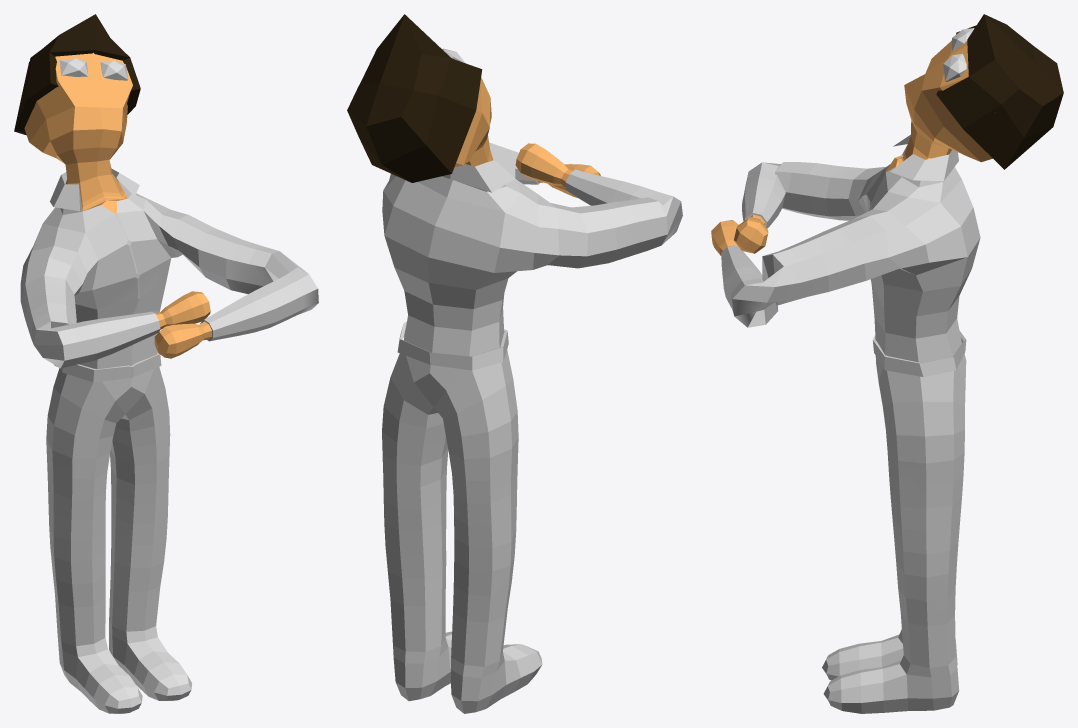
Rendered from tired worker look up.fbx.
The picture shows the model from 3 angles, left to right: view 1: azimuth 30°, elevation 25°; view 2: azimuth 150°, elevation 25°; view 3: azimuth 270°, elevation 25°; orthographic projection. The views are drawn at different scales.
Parts seen in each view (by area): view 1: Vert_005.002; view 2: Vert_005.002; view 3: Vert_005.002.
Boxes of the visible parts, left/top/right/bottom form: Vert_005.002: left=14, top=14, right=318, bottom=713; Vert_005.002: left=347, top=14, right=682, bottom=713; Vert_005.002: left=711, top=14, right=1063, bottom=713.
Size of the model in its own units: 374 by 896 by 414.
